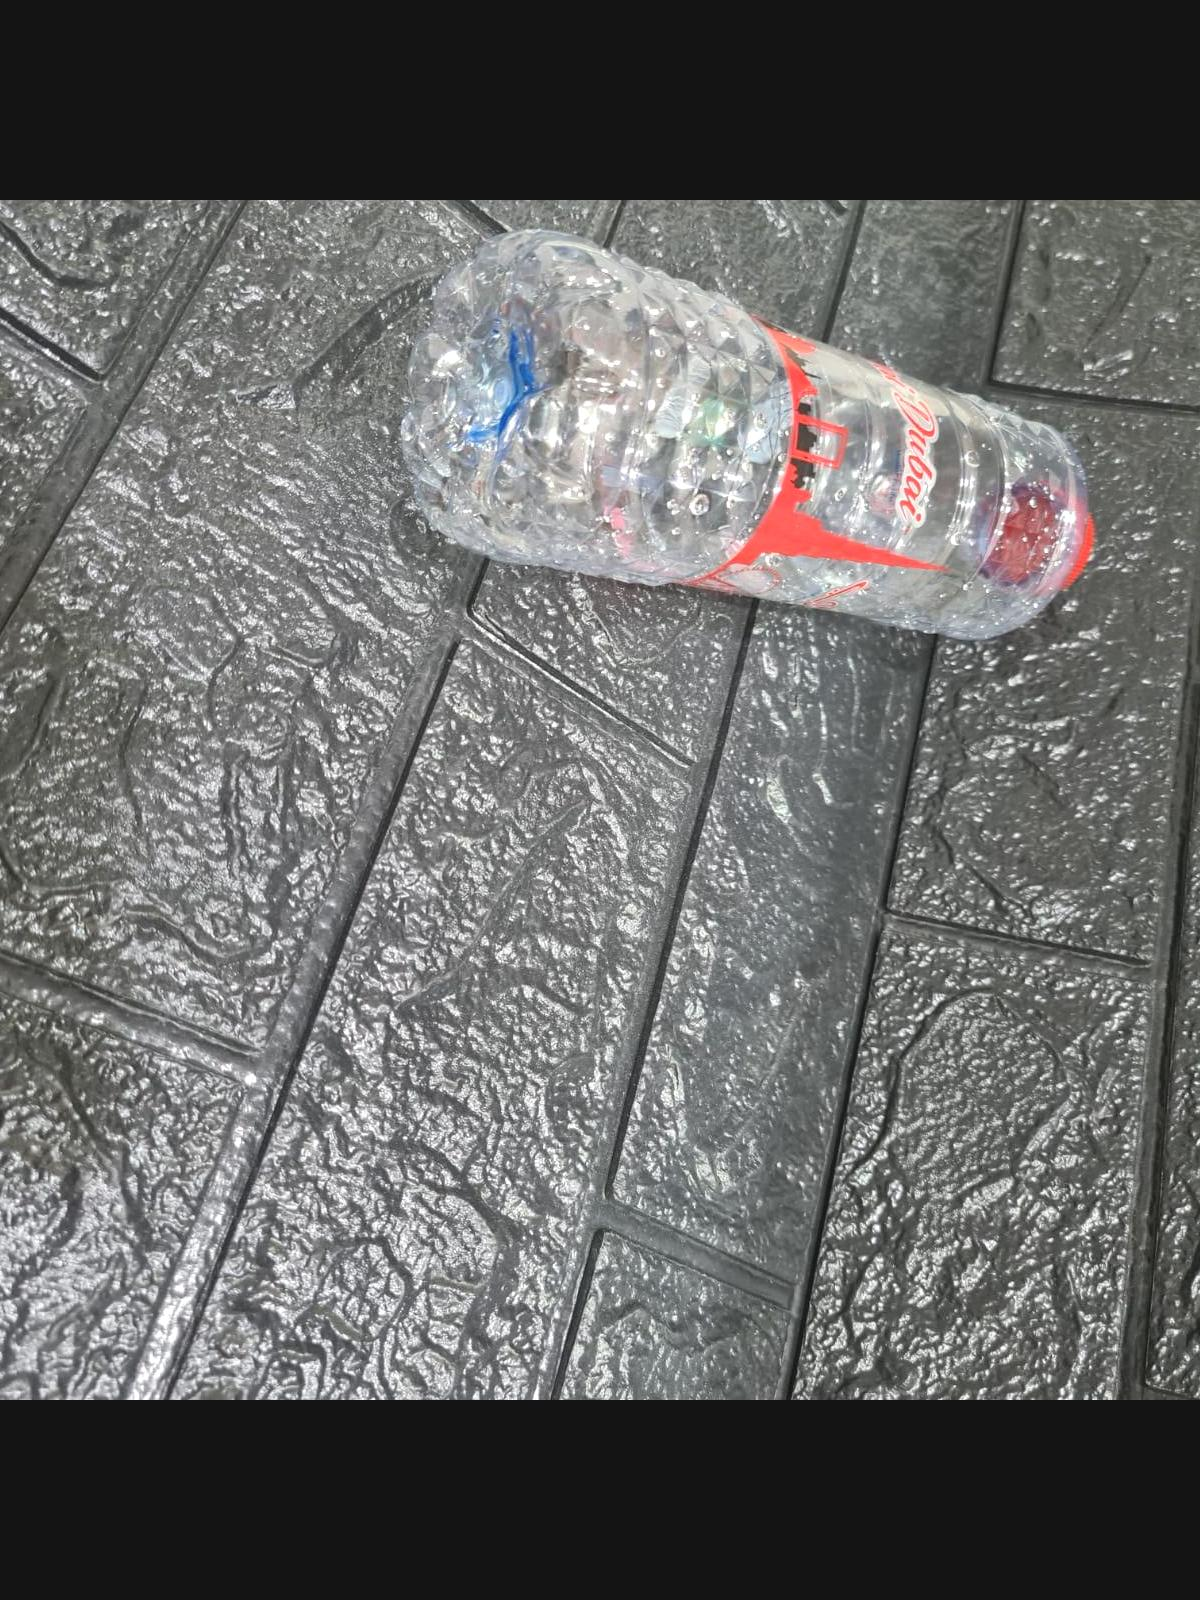bottle: (413, 210, 1113, 665)
